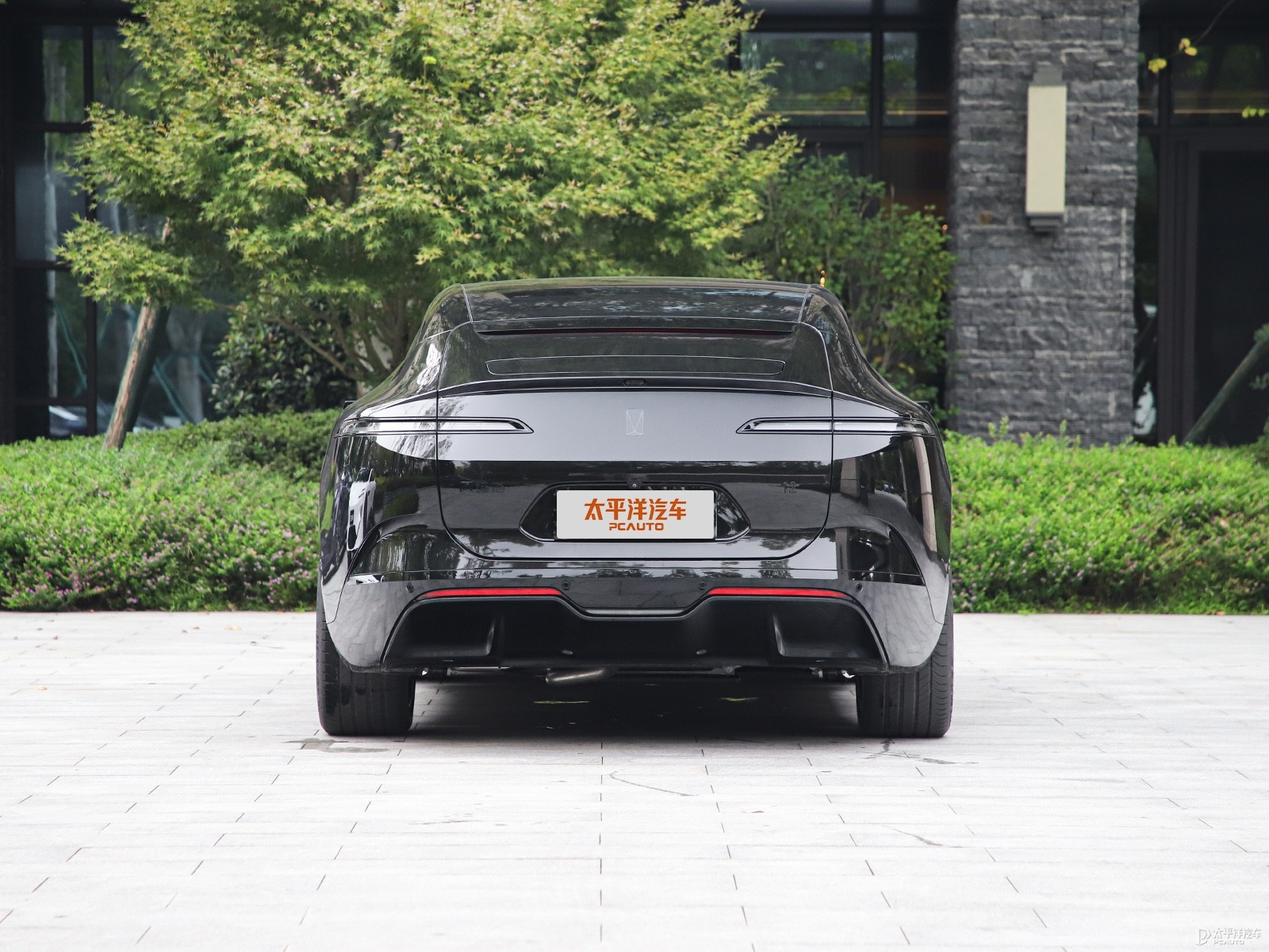AVATR: (625, 408, 644, 436)
